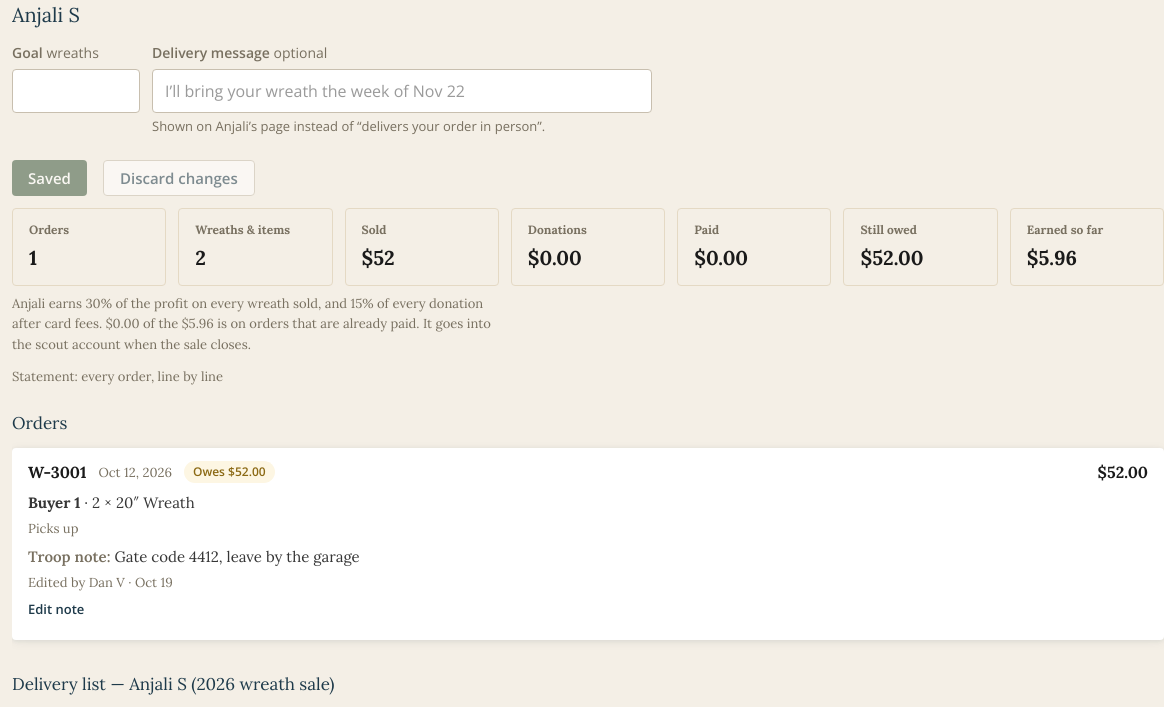
Test: the scout’s order list › ScoutList_NoteSave_IsGreyedUntilChanged
Step 1. Click the button with aria-label "Edit the troop note on order W-3001" → {"x": 56, "y": 610}, box [28,592,84,628]
(page scrolled)
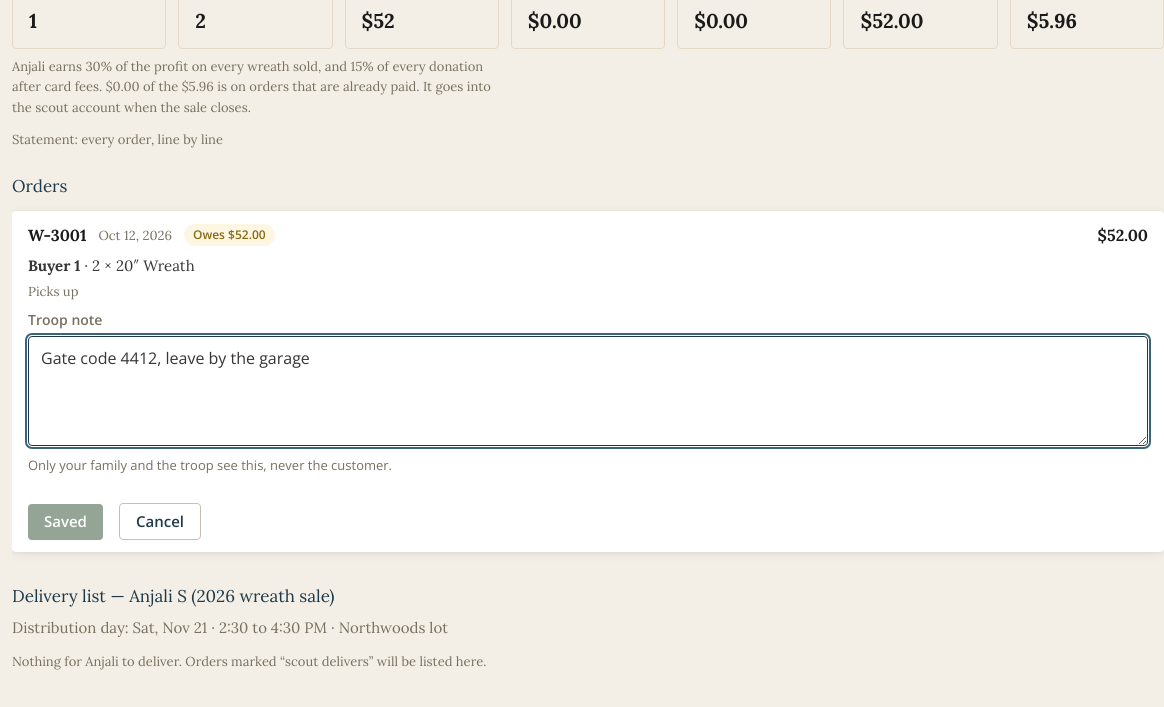
Now the button "Saved" is disabled, box [28,504,103,540]
